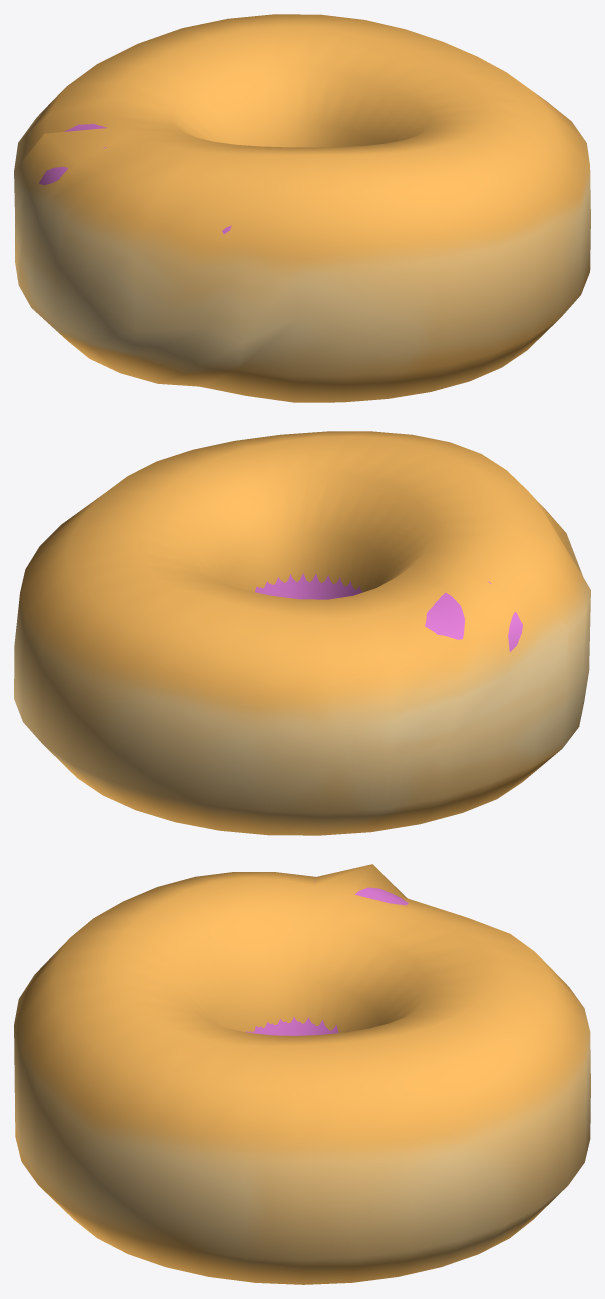
3 views of the same model, one above another, from view 1: azimuth 30°, elevation 25°; view 2: azimuth 150°, elevation 25°; view 3: azimuth 270°, elevation 25° (orthographic).
Parts seen in each view (by area): view 1: donut, icing; view 2: donut, icing; view 3: donut, icing.
Boxes of the visible parts, bbox=[...] form: donut: bbox=[14, 14, 590, 402]; icing: bbox=[39, 124, 231, 234]; donut: bbox=[14, 431, 590, 835]; icing: bbox=[255, 573, 522, 651]; donut: bbox=[14, 864, 590, 1284]; icing: bbox=[246, 881, 408, 1035].
Size of what is drawn, in the model's own units: 0.1217 by 0.0556 by 0.1197.
2 materials, 1 textured.
